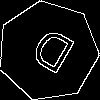D: (23, 26, 78, 83)
